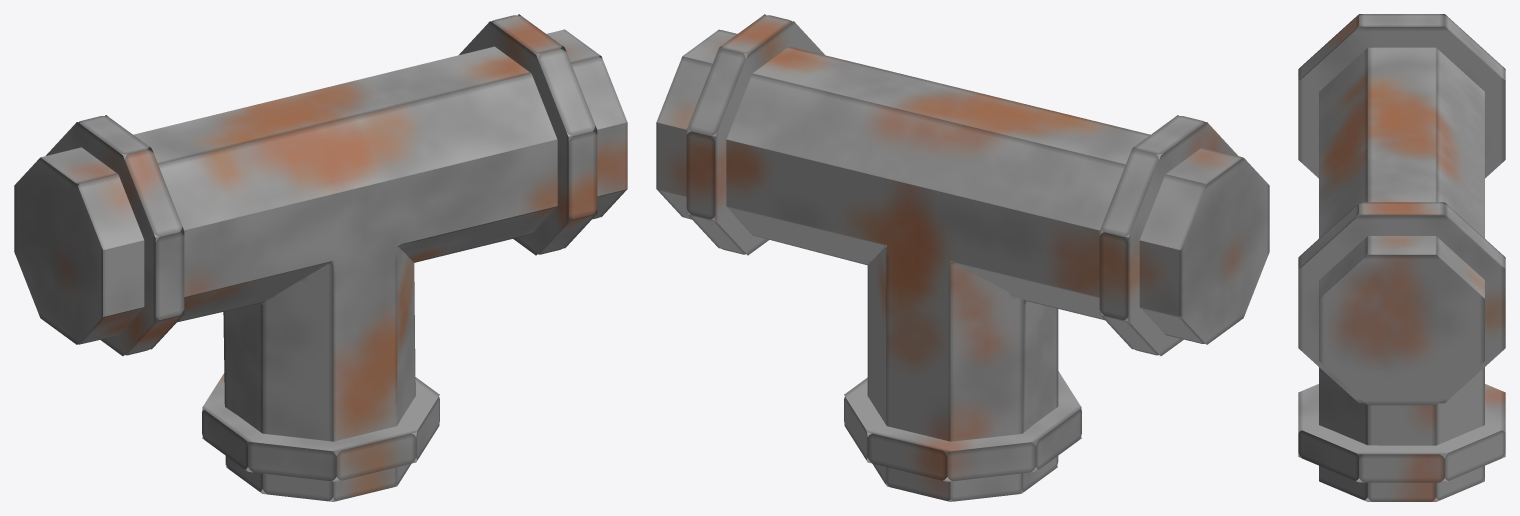
File: pipeJunctionT.obj
3 views of the same model, side by side, from view 1: azimuth 30°, elevation 25°; view 2: azimuth 150°, elevation 25°; view 3: azimuth 270°, elevation 25° (orthographic). The views are drawn at different scales.
Parts seen in each view (by area): view 1: cylinder; view 2: cylinder; view 3: cylinder.
Boxes of the visible parts, <box> form: cylinder: <box>14,14,627,501</box>; cylinder: <box>656,14,1269,501</box>; cylinder: <box>1298,14,1505,501</box>.
Size of the model in its own units: 3.41 by 2.34 by 1.25.
